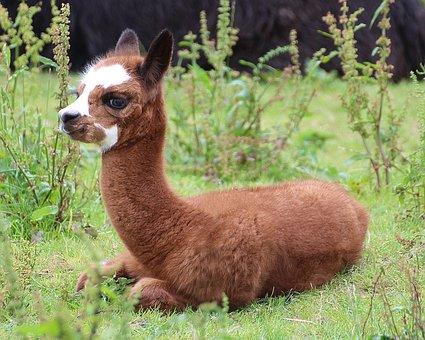alpaca: (57, 26, 370, 316)
